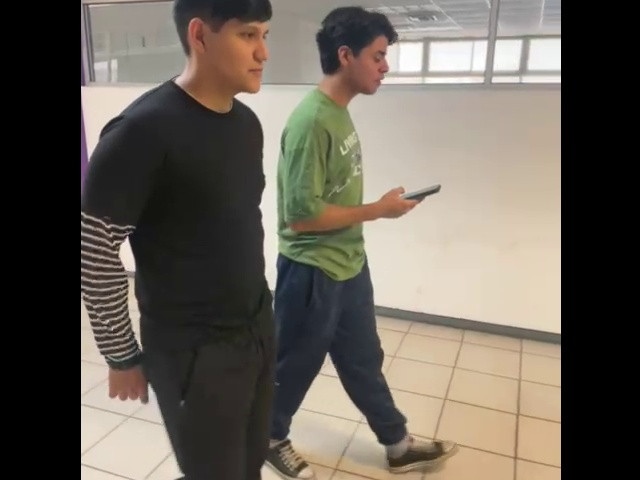mixto2: (401, 173, 445, 203)
